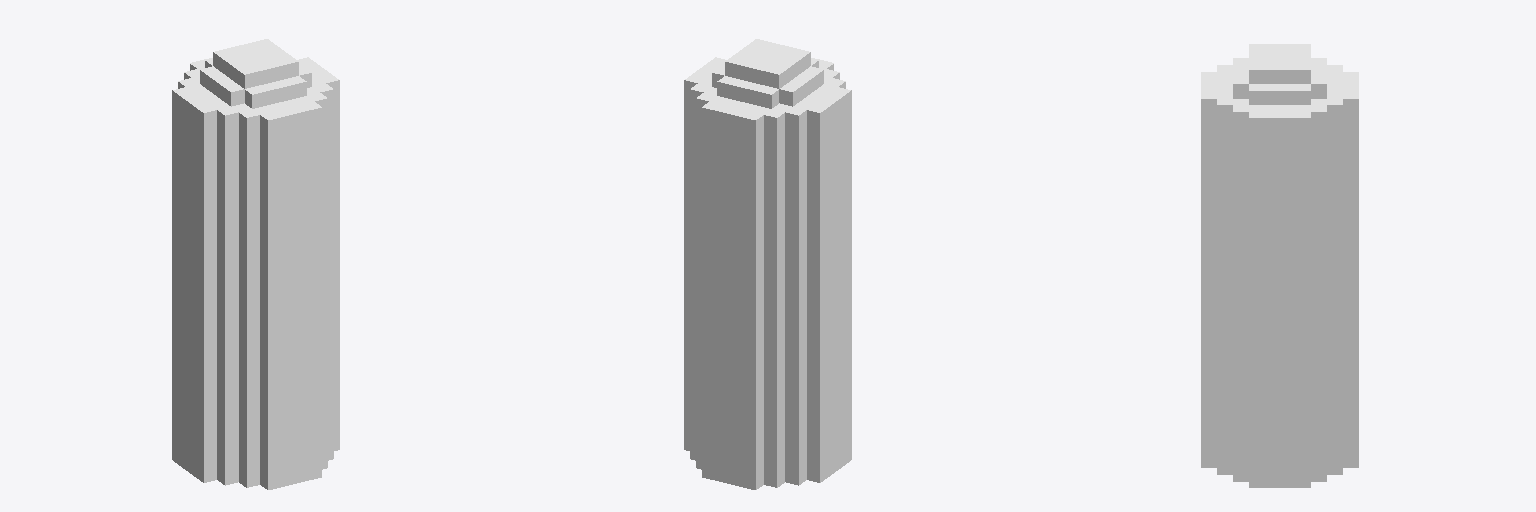
Rendered from batteries.obj.
3 renders of one model, left to right at view 1: azimuth 30°, elevation 25°; view 2: azimuth 150°, elevation 25°; view 3: azimuth 270°, elevation 25°, orthographic.
Parts seen in each view (by area): view 1: object 1; view 2: object 1; view 3: object 1.
Boxes of the visible parts, <box> form: object 1: <box>172,39,339,489</box>; object 1: <box>684,39,851,489</box>; object 1: <box>1201,44,1358,487</box>.
Size of the model in its own units: 1 by 2.8 by 1.